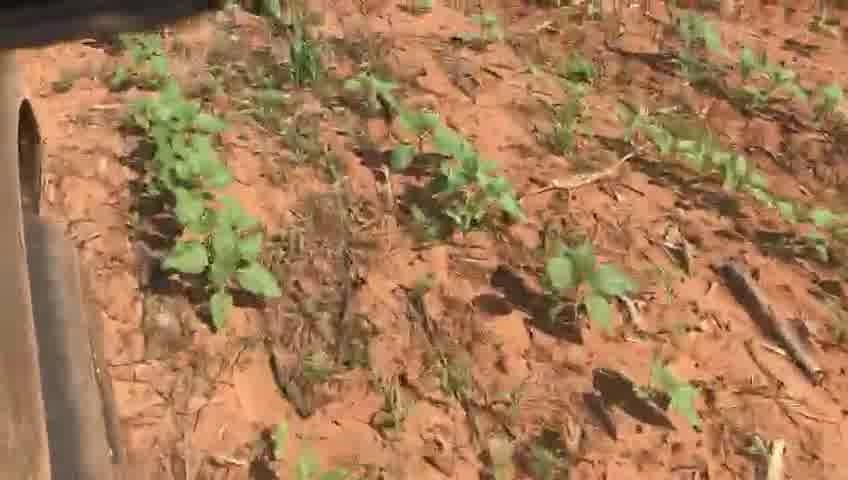sunflower: (159, 223, 283, 335), (541, 243, 637, 326), (388, 110, 488, 185), (429, 150, 525, 226), (138, 114, 239, 186), (627, 103, 715, 174), (160, 165, 252, 230), (135, 80, 222, 133), (649, 363, 710, 427), (710, 142, 758, 200)
